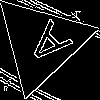A: (16, 18, 74, 74)
